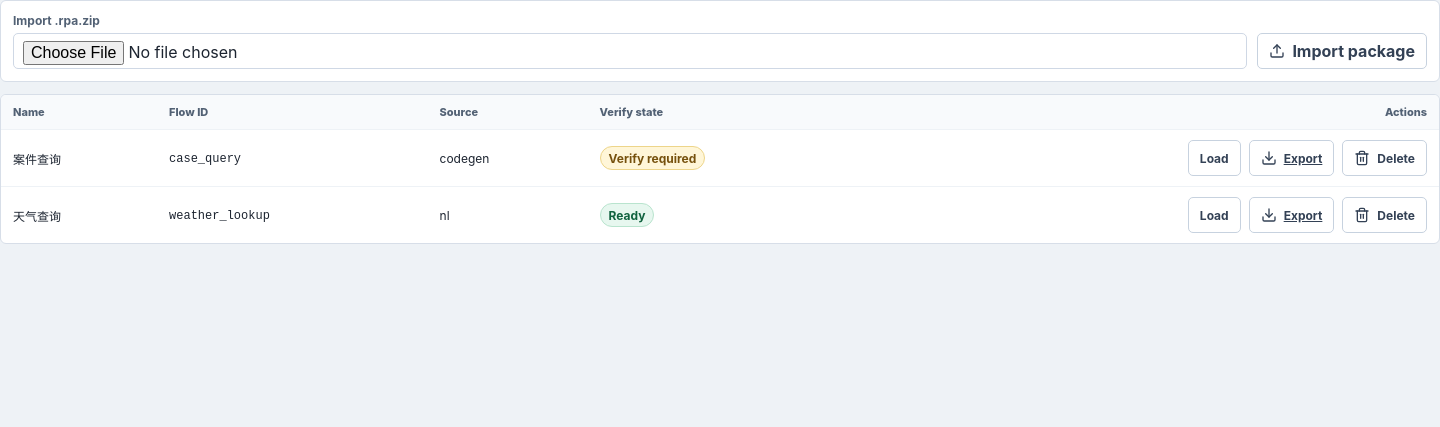
Test case: FlowAssetsWorkspace › lists flows with source, verify state, load, and export controls
Expected: the cell "案件查询" is shown, x1=1 y1=130 x2=157 y2=186
Expected: the cell "case_query" is shown, x1=157 y1=130 x2=428 y2=186
Click the button with aria-label "Load case_query" at (1214, 158), box x1=1188 y1=140 x2=1241 y2=176
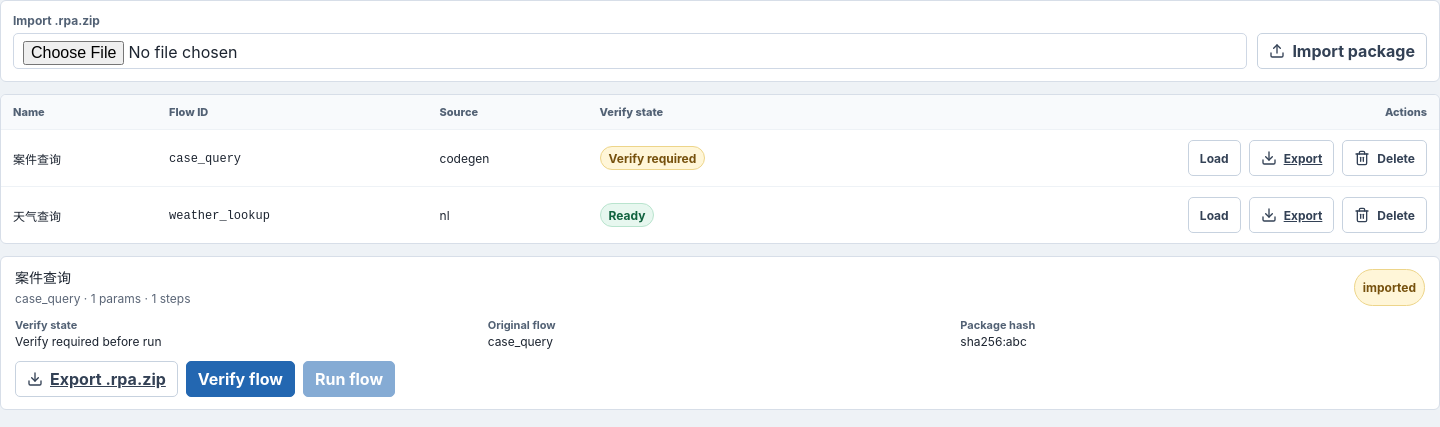
Expected: the heading "案件查询" is shown, x1=15 y1=269 x2=71 y2=286
Expected: the text "imported" is shown, x1=1354 y1=269 x2=1425 y2=306
Expected: the text "Verify required before run" is shown, x1=15 y1=334 x2=162 y2=348
